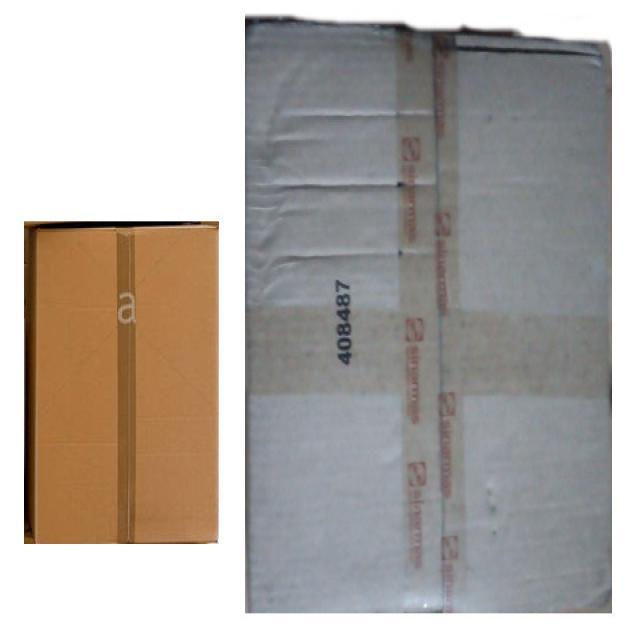Cardboard: (246, 15, 614, 616), (31, 223, 220, 542)
